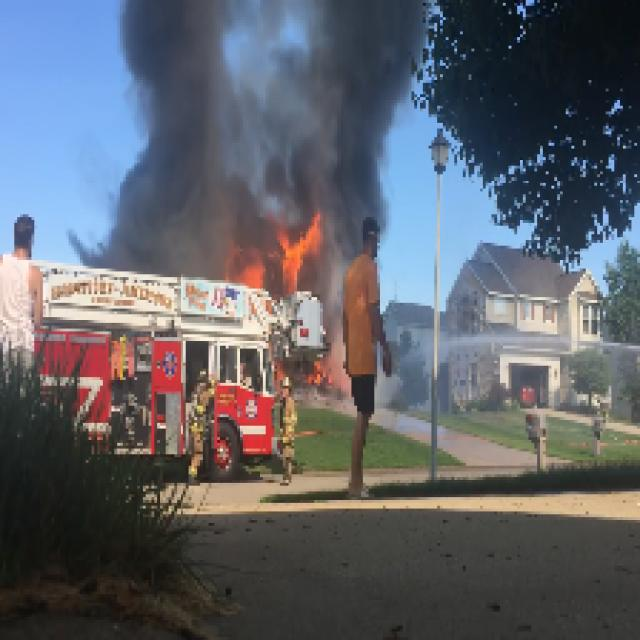smoke: (143, 10, 221, 261), (320, 12, 392, 218)
